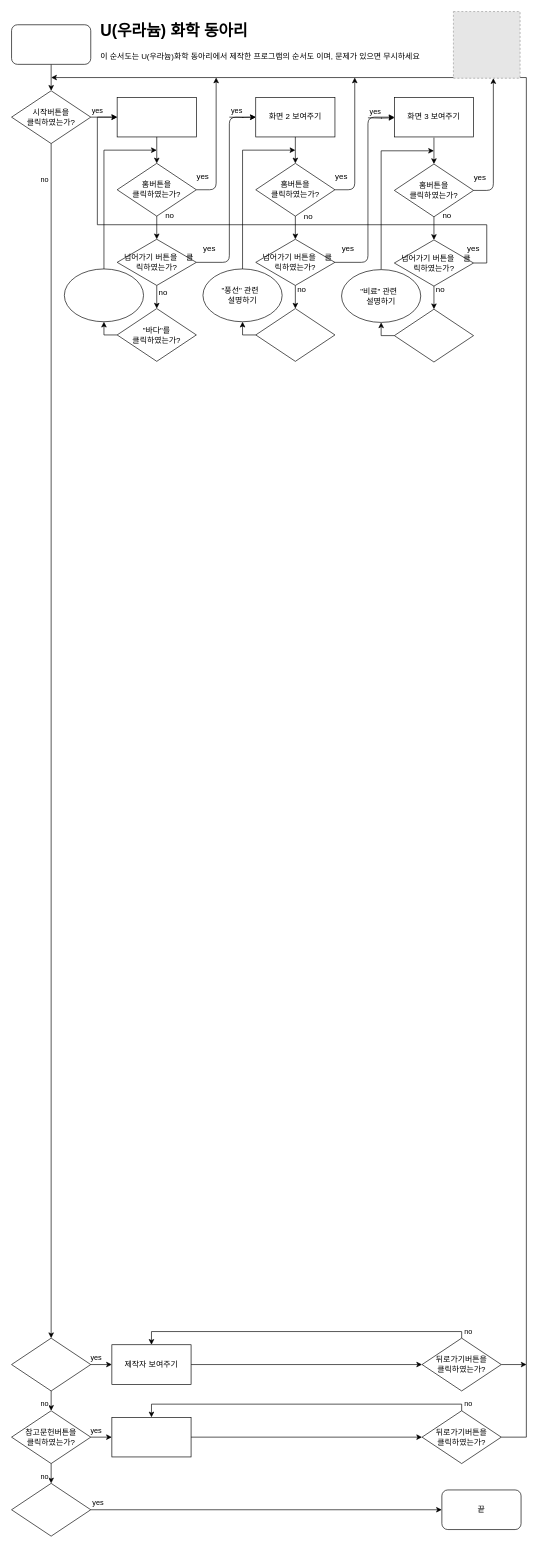
Some shapes in this 544 by 1548 pixel diagram are drawn without their labels. Grey dashed boxes stand in for pictures. Here are the shapes that lost their labels. From the top down, the box of each, then its label:
(11, 24, 91, 64): 시작
(116, 97, 196, 137): 화면 1 보여주기
(64, 268, 144, 322): "바다" 관련 설명하기
(255, 308, 335, 361): "풍선"을 클릭하였는가?
(394, 309, 474, 362): "비료"를 클릭하였는가?
(11, 1337, 91, 1391): 제작자버튼을 클릭하였는가?
(111, 1417, 191, 1457): 참고문헌 문서 보여주기
(11, 1483, 91, 1536): 종료버튼을 클릭하였는가?
